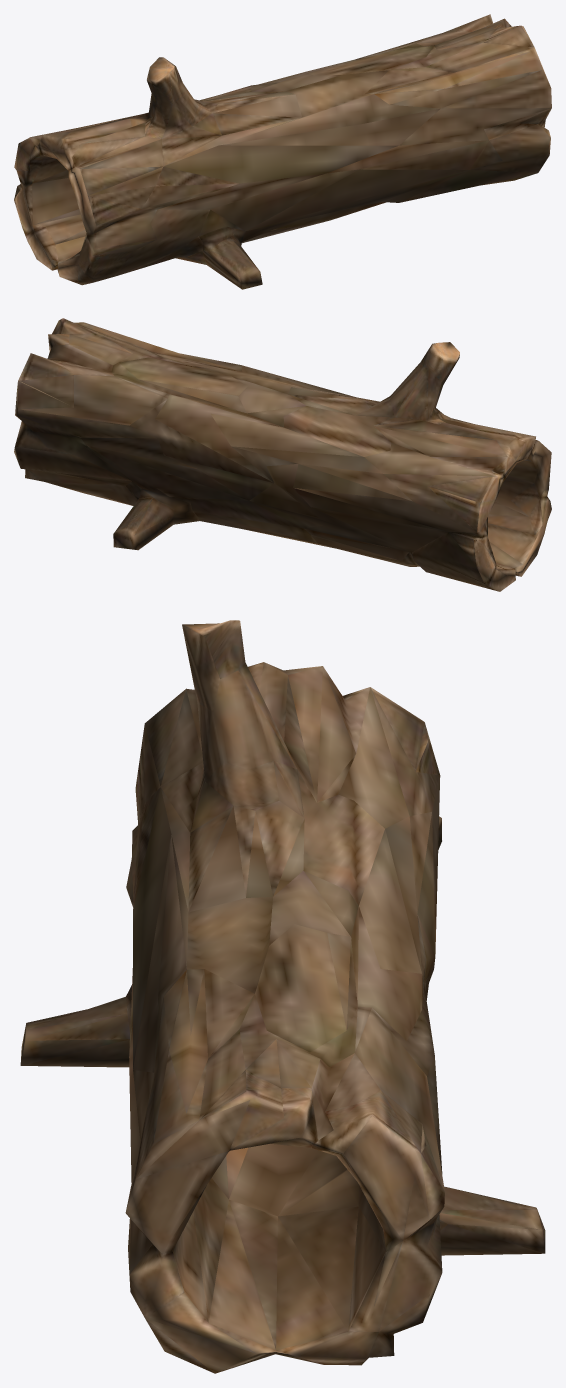
Rendered from tronc-semis.glb.
The picture shows the model from 3 angles, top to bottom: view 1: azimuth 30°, elevation 25°; view 2: azimuth 150°, elevation 25°; view 3: azimuth 270°, elevation 25°; orthographic projection. The views are drawn at different scales.
Visible parts, largest first — view 1: tronc-semis; view 2: tronc-semis; view 3: tronc-semis.
Part boxes in pixels (bbox=[...]): tronc-semis: bbox=[14, 14, 551, 289]; tronc-semis: bbox=[14, 318, 551, 591]; tronc-semis: bbox=[20, 620, 545, 1373].
Bounding box in the file's own units: 2 × 0.8379 × 0.9796.
Materials: 1 (1 with a texture image).
